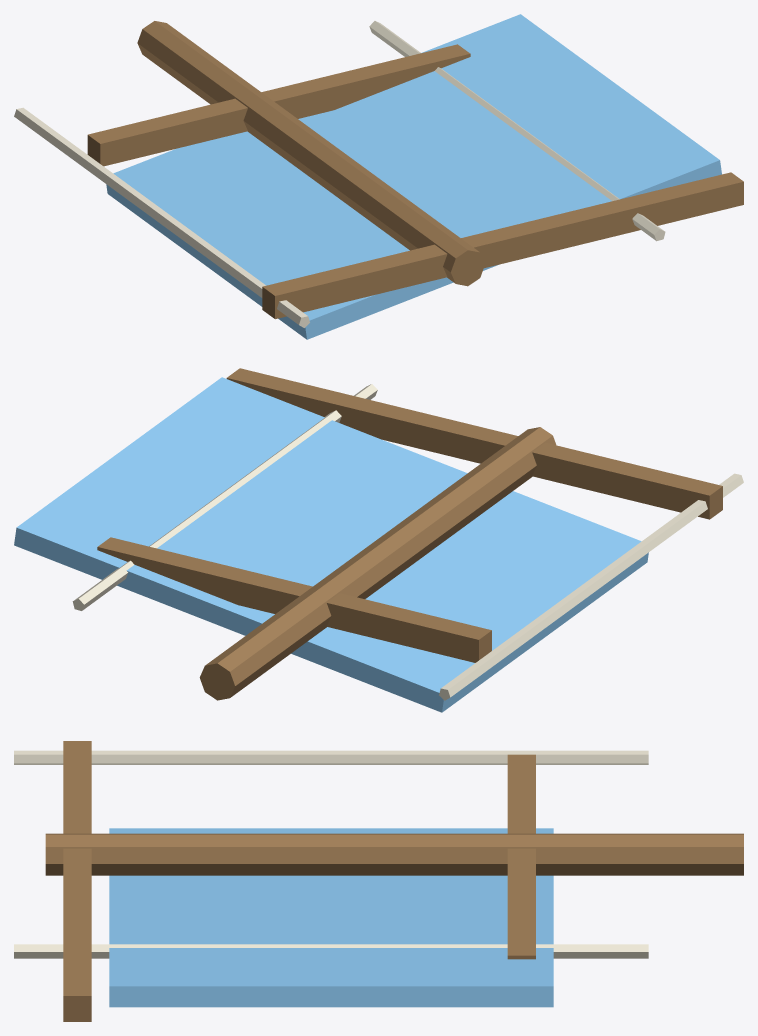
File: 07_skyship_rigging.glb
3 renders of one model, top to bottom at view 1: azimuth 30°, elevation 25°; view 2: azimuth 150°, elevation 25°; view 3: azimuth 270°, elevation 25°, orthographic. The views are drawn at different scales.
Parts seen in each view (by area): view 1: sail_panel, spar_top, mast, spar_bottom, rigging_line_l, rigging_line_r; view 2: sail_panel, mast, spar_top, spar_bottom, rigging_line_l, rigging_line_r; view 3: sail_panel, mast, rigging_line_l, spar_top, spar_bottom, rigging_line_r.
Boxes of the visible parts, x1,y1,x2,y2 form: sail_panel: [106, 14, 721, 339]; spar_top: [262, 172, 743, 319]; mast: [137, 21, 484, 286]; spar_bottom: [87, 44, 470, 166]; rigging_line_l: [14, 107, 309, 327]; rigging_line_r: [369, 21, 665, 241]; sail_panel: [14, 377, 648, 712]; mast: [199, 427, 556, 700]; spar_top: [226, 368, 722, 519]; spar_bottom: [97, 537, 491, 662]; rigging_line_l: [439, 473, 743, 700]; rigging_line_r: [72, 384, 377, 610]; sail_panel: [109, 828, 553, 1007]; mast: [45, 833, 743, 875]; rigging_line_l: [14, 750, 648, 764]; spar_top: [63, 741, 91, 1021]; spar_bottom: [507, 754, 535, 959]; rigging_line_r: [14, 944, 648, 958].
Size of the model in its own units: 1.95 by 0.3136 by 2.36.
